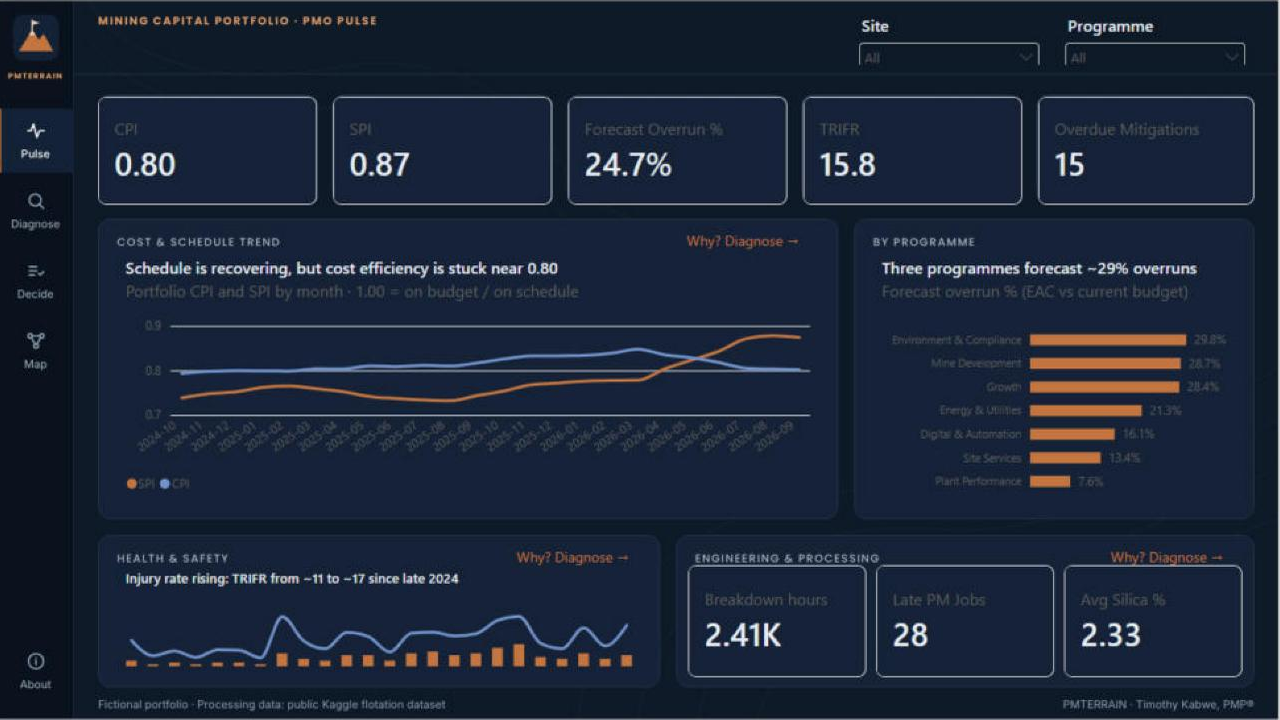

The dashboard page shown, as its layout file describes it:
{"tool":"powerbi","page":{"name":"Pulse","canvas":[1280,720],"ordinal":0},"visuals":[{"type":"cardVisual","fields":{"Data":["Key_MeasuresPMO.TRIFR"]},"box":[805,96,219,108],"z":0},{"type":"cardVisual","fields":{"Data":["Key_MeasuresPMO.CPI"]},"box":[100,96,219,108],"z":1000},{"type":"cardVisual","fields":{"Data":["Key_MeasuresPMO.SPI"]},"box":[335,96,219,108],"z":2000},{"type":"cardVisual","fields":{"Data":["Key_MeasuresPMO.Forecast Overrun %"]},"box":[570,96,219,108],"z":3000},{"type":"cardVisual","fields":{"Data":["Key_MeasuresPMO.Overdue Mitigations"]},"box":[1040,96,216,108],"z":4000},{"type":"lineChart","title":"Schedule is recovering, but cost efficiency is stuck near 0.80","fields":{"Category":["Calendar.YearMonth"],"Y":["Key_MeasuresPMO.SPI","Key_MeasuresPMO.CPI"]},"box":[112,242,716,270],"z":5000},{"type":"clusteredBarChart","title":"Three programmes forecast ~29% overruns","fields":{"Category":["Dim_Project.Programme"],"Y":["Key_MeasuresPMO.Forecast Overrun %"]},"box":[868,242,376,270],"z":6000},{"type":"lineClusteredColumnComboChart","title":"Injury rate rising: TRIFR from ~11 to ~17 since late 2024","fields":{"Category":["Calendar.YearMonth"],"Y":["Key_MeasuresPMO.Recordable Injuries"],"Y2":["Key_MeasuresPMO.TRIFR"]},"box":[112,554,538,128],"z":7000},{"type":"cardVisual","fields":{"Data":["Key_MeasuresPMO.Breakdown Downtime (h)"]},"box":[690,564,178,112],"z":8000},{"type":"cardVisual","fields":{"Data":["Key_MeasuresPMO.Late PM Jobs"]},"box":[878,564,178,112],"z":9000},{"type":"cardVisual","fields":{"Data":["Key_MeasuresPMO.Avg Silica %"]},"box":[1066,564,178,112],"z":10000},{"type":"actionButton","box":[0,110,76,64],"z":11000},{"type":"actionButton","box":[0,180,76,64],"z":12000},{"type":"actionButton","box":[0,250,76,64],"z":13000},{"type":"actionButton","box":[0,640,76,64],"z":14000},{"type":"slicer","fields":{"Values":["Dim_Project.Programme"]},"box":[1062,14,190,50],"z":15000},{"type":"slicer","fields":{"Values":["Dim_Site.SiteName"]},"box":[856,14,190,50],"z":16000},{"type":"actionButton","box":[0,320,76,64],"z":17000},{"type":"actionButton","box":[500,540,150,28],"z":18000},{"type":"actionButton","box":[1094,540,150,28],"z":19000},{"type":"actionButton","box":[670,224,150,28],"z":20000}]}

Visuals, with their boxes on the page's 1280x720 design canvas (x1, y1, x2, y2). These are canvas units, not pixel positions in the 1280x720 screenshot, which may show the page scaled, cropped or inside an application window:
cardVisual - Key_MeasuresPMO.TRIFR: x1=805 y1=96 x2=1024 y2=204
cardVisual - Key_MeasuresPMO.CPI: x1=100 y1=96 x2=319 y2=204
cardVisual - Key_MeasuresPMO.SPI: x1=335 y1=96 x2=554 y2=204
cardVisual - Key_MeasuresPMO.Forecast Overrun %: x1=570 y1=96 x2=789 y2=204
cardVisual - Key_MeasuresPMO.Overdue Mitigations: x1=1040 y1=96 x2=1256 y2=204
"Schedule is recovering, but cost efficiency is stuck near 0.80" lineChart: x1=112 y1=242 x2=828 y2=512
"Three programmes forecast ~29% overruns" clusteredBarChart: x1=868 y1=242 x2=1244 y2=512
"Injury rate rising: TRIFR from ~11 to ~17 since late 2024" lineClusteredColumnComboChart: x1=112 y1=554 x2=650 y2=682
cardVisual - Key_MeasuresPMO.Breakdown Downtime (h): x1=690 y1=564 x2=868 y2=676
cardVisual - Key_MeasuresPMO.Late PM Jobs: x1=878 y1=564 x2=1056 y2=676
cardVisual - Key_MeasuresPMO.Avg Silica %: x1=1066 y1=564 x2=1244 y2=676
actionButton: x1=0 y1=110 x2=76 y2=174
actionButton: x1=0 y1=180 x2=76 y2=244
actionButton: x1=0 y1=250 x2=76 y2=314
actionButton: x1=0 y1=640 x2=76 y2=704
slicer - Dim_Project.Programme: x1=1062 y1=14 x2=1252 y2=64
slicer - Dim_Site.SiteName: x1=856 y1=14 x2=1046 y2=64
actionButton: x1=0 y1=320 x2=76 y2=384
actionButton: x1=500 y1=540 x2=650 y2=568
actionButton: x1=1094 y1=540 x2=1244 y2=568
actionButton: x1=670 y1=224 x2=820 y2=252
